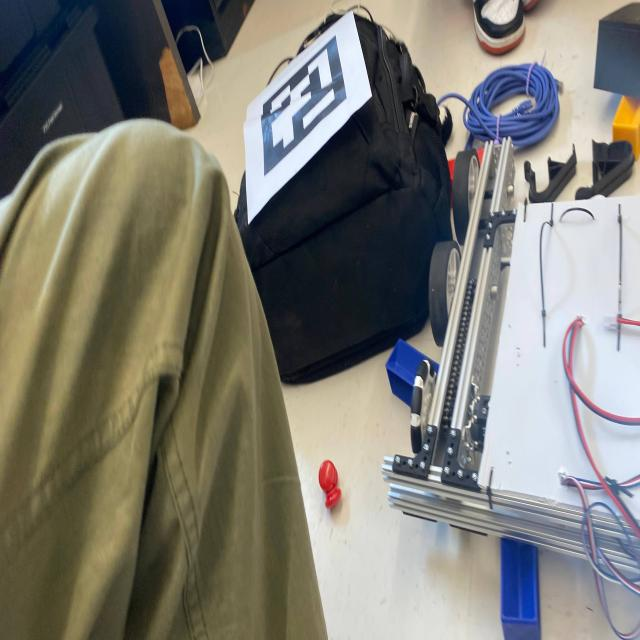blue-specimen: (500, 538, 541, 640), (386, 339, 439, 406)
red-specimen: (448, 158, 455, 186), (476, 147, 484, 165)
yellow-specimen: (612, 96, 640, 161)
